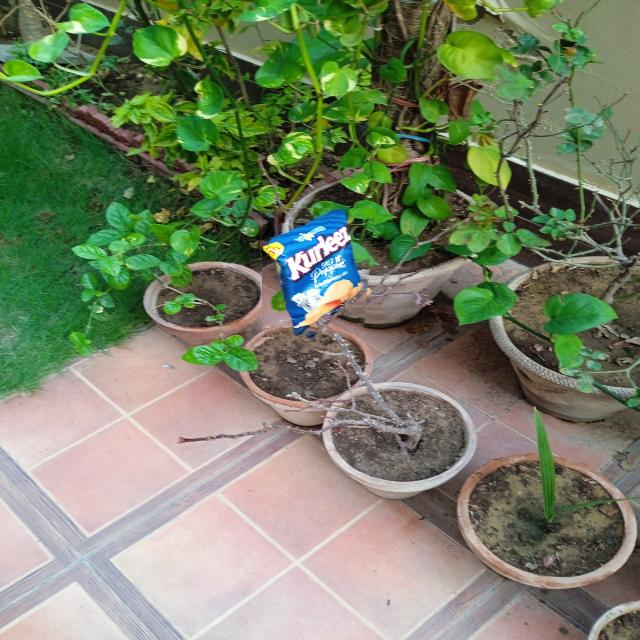Plastic: (262, 208, 376, 338)
